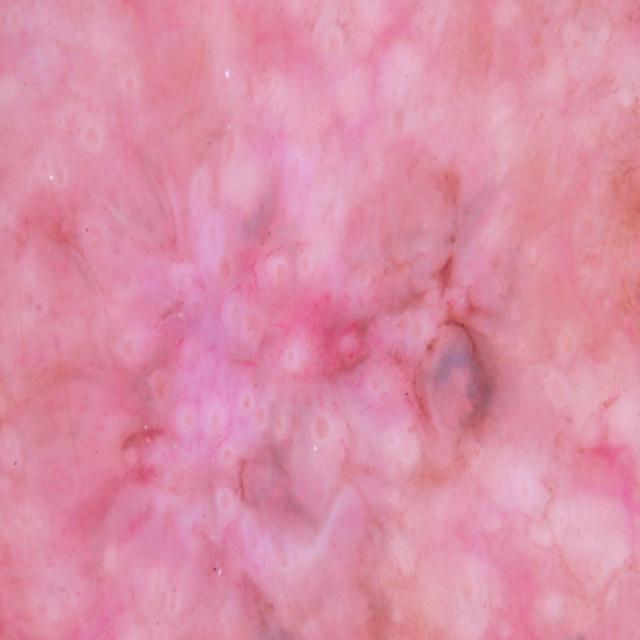Melanoma: (102, 228, 500, 604)
